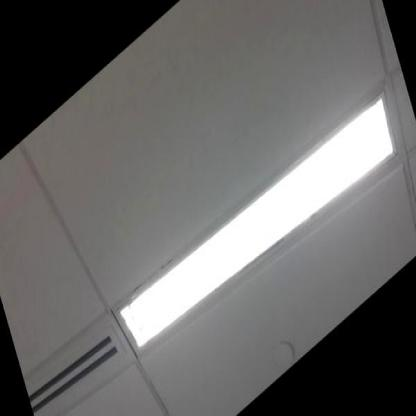light_on: (103, 37, 416, 415)
